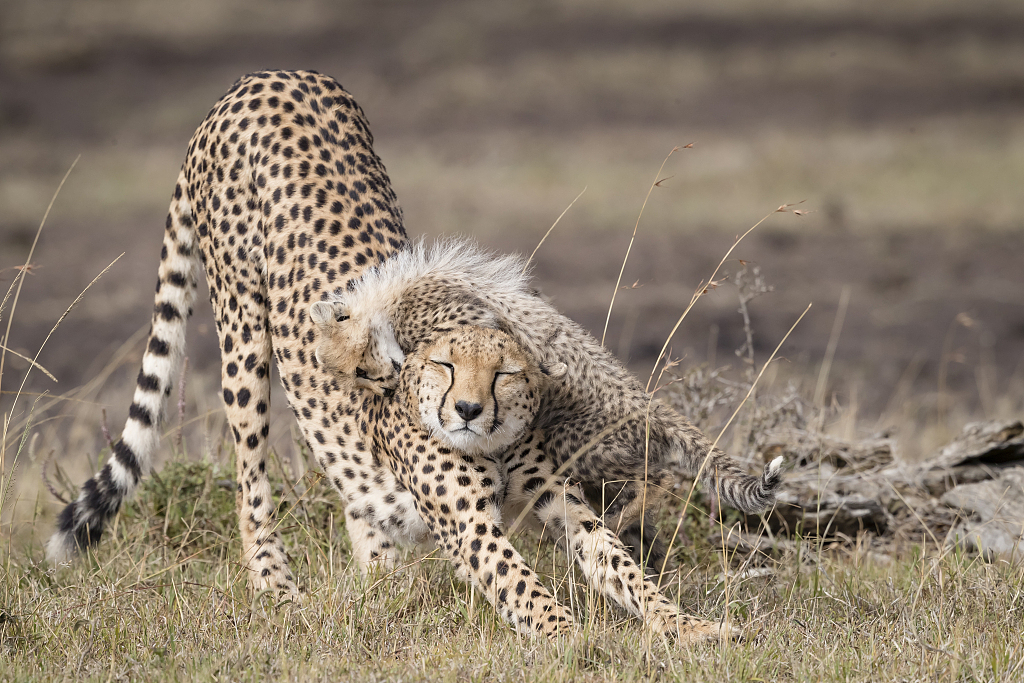cheetah: (397, 314, 549, 462)
